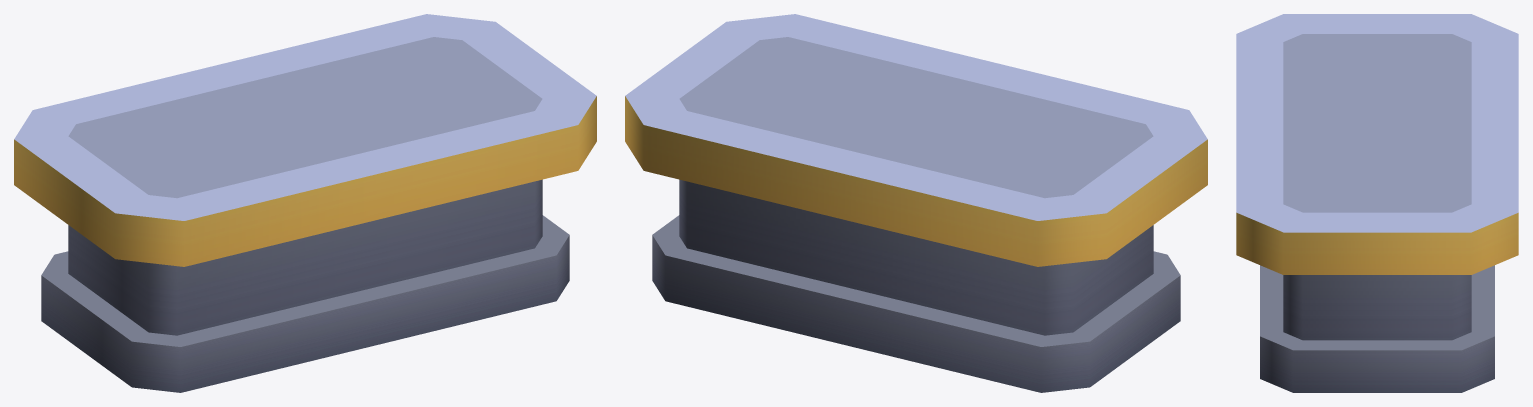
Rendered from station-table.glb.
3 renders of one model, left to right at view 1: azimuth 30°, elevation 25°; view 2: azimuth 150°, elevation 25°; view 3: azimuth 270°, elevation 25°, orthographic. The views are drawn at different scales.
Parts seen in each view (by area): view 1: table; view 2: table; view 3: table.
Part boxes in pixels (box(x1,y1,x2,y2)): table: box(14, 14, 596, 392); table: box(625, 14, 1207, 392); table: box(1236, 14, 1518, 392).
Size of the model in its own units: 1.1 by 0.4001 by 0.6.
1 material, 1 textured.
